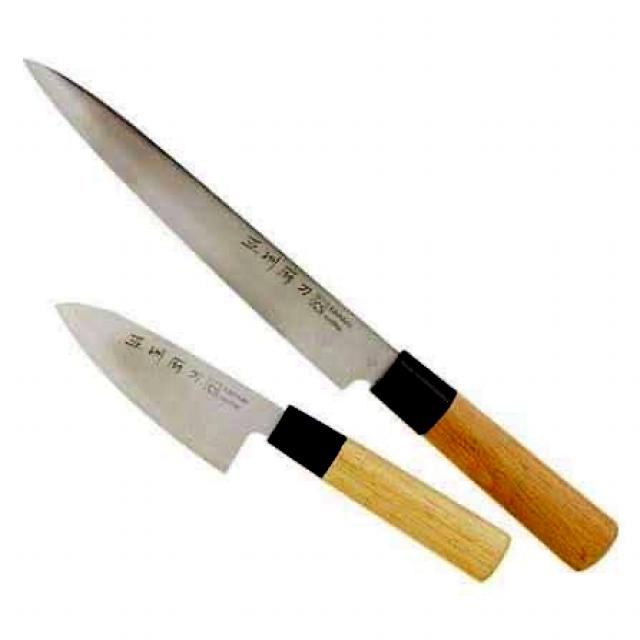knife: (18, 38, 622, 590)
